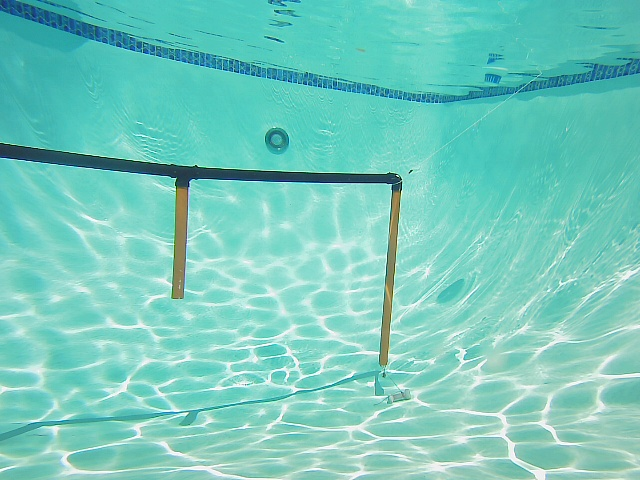Gate: (377, 186, 402, 368), (167, 181, 193, 300)
